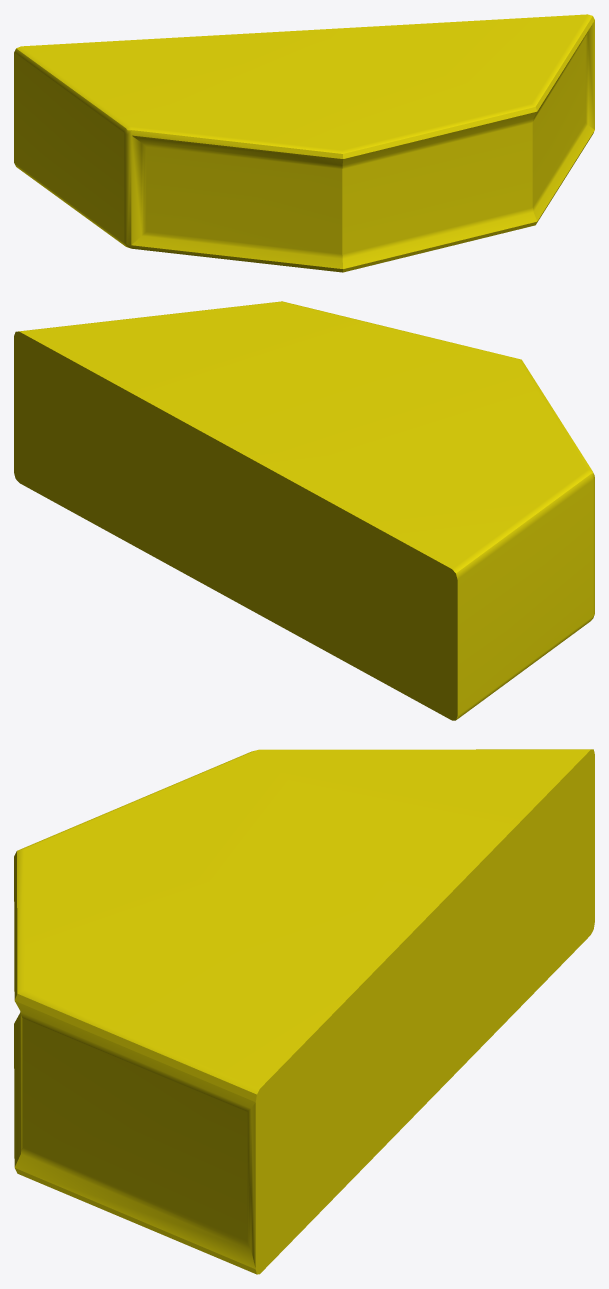
The model's file is 23-04-27_Chicken_WinButton.fbx.
3 views of the same model, one above another, from view 1: azimuth 30°, elevation 25°; view 2: azimuth 150°, elevation 25°; view 3: azimuth 270°, elevation 25° (orthographic). The views are drawn at different scales.
Parts seen in each view (by area): view 1: Restart_Button3; view 2: Restart_Button3; view 3: Restart_Button3.
Boxes of the visible parts, x1,y1,x2,y2 form: Restart_Button3: (14, 14, 594, 272); Restart_Button3: (14, 301, 594, 720); Restart_Button3: (14, 749, 594, 1274).
Size of the model in its own units: 171 by 42.52 by 121.
